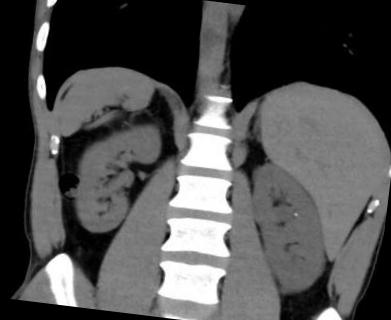Tas_Var: (292, 209, 299, 218)
